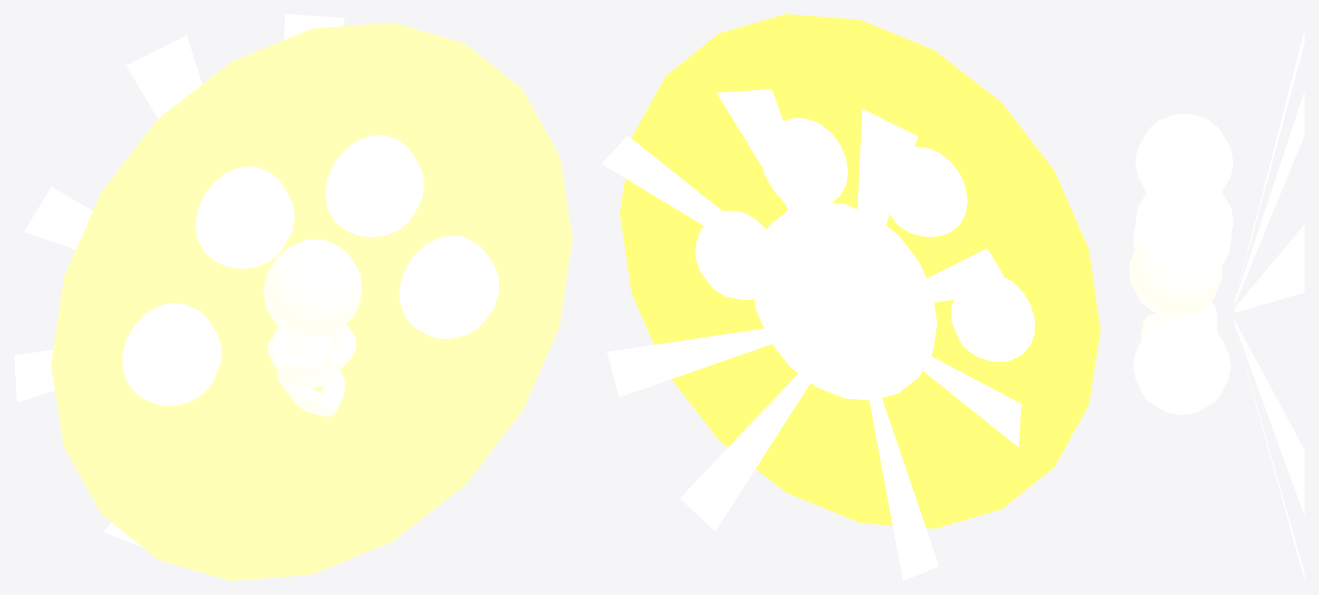
Rendered from religious belief.gltf.
The picture shows the model from 3 angles, left to right: view 1: azimuth 30°, elevation 25°; view 2: azimuth 150°, elevation 25°; view 3: azimuth 270°, elevation 25°; orthographic projection. The views are drawn at different scales.
Visible parts, largest first — view 1: glow2, Character02, shine, orb04, orb01, orb02, orb03; view 2: glow2, shine, glow01, orb02, orb01, orb03, orb04; view 3: shine, orb03, orb04, orb02, Character02, orb01.
Boxes of the visible parts, <box> form: glow2: <box>51,22,572,580</box>; Character02: <box>263,239,361,416</box>; shine: <box>14,14,344,547</box>; orb04: <box>399,236,498,338</box>; orb01: <box>122,303,221,405</box>; orb02: <box>195,166,294,268</box>; orb03: <box>325,135,424,237</box>; glow2: <box>620,14,1100,528</box>; shine: <box>601,89,1021,580</box>; glow01: <box>751,201,937,400</box>; orb02: <box>890,146,967,236</box>; orb01: <box>951,277,1034,361</box>; orb03: <box>763,117,847,202</box>; orb04: <box>695,210,766,299</box>; shine: <box>1234,30,1304,579</box>; orb03: <box>1135,173,1233,270</box>; orb04: <box>1133,317,1230,414</box>; orb02: <box>1135,113,1233,191</box>; Character02: <box>1129,241,1222,338</box>; orb01: <box>1133,224,1230,265</box>.
Size of the model in its own units: 16.7 by 16.7 by 5.21.
